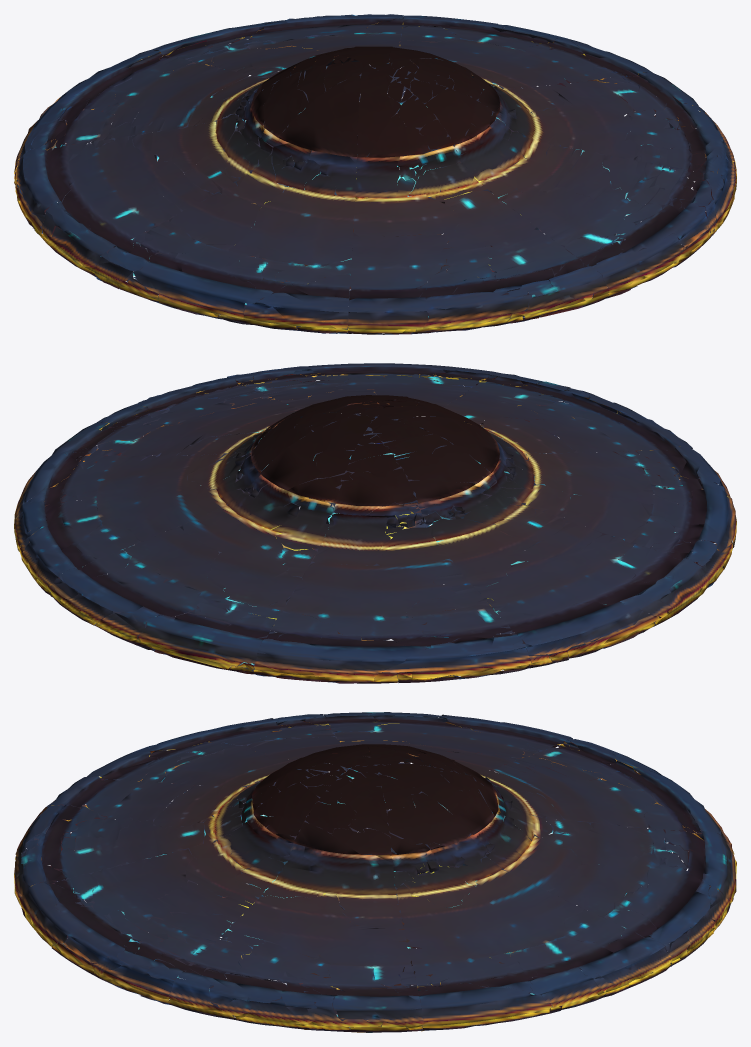
File: alien-flying-saucer.glb
3 renders of one model, top to bottom at view 1: azimuth 30°, elevation 25°; view 2: azimuth 150°, elevation 25°; view 3: azimuth 270°, elevation 25°, orthographic.
Parts seen in each view (by area): view 1: tmpdqtrg9su.obj static; view 2: tmpdqtrg9su.obj static; view 3: tmpdqtrg9su.obj static.
Part boxes in pixels (x1,y1,x2,y2): tmpdqtrg9su.obj static: (14,14,736,334); tmpdqtrg9su.obj static: (14,363,736,683); tmpdqtrg9su.obj static: (14,712,736,1032).
Bounding box in the file's own units: 1.93 × 0.5741 × 1.93.
1 material, 1 textured.
